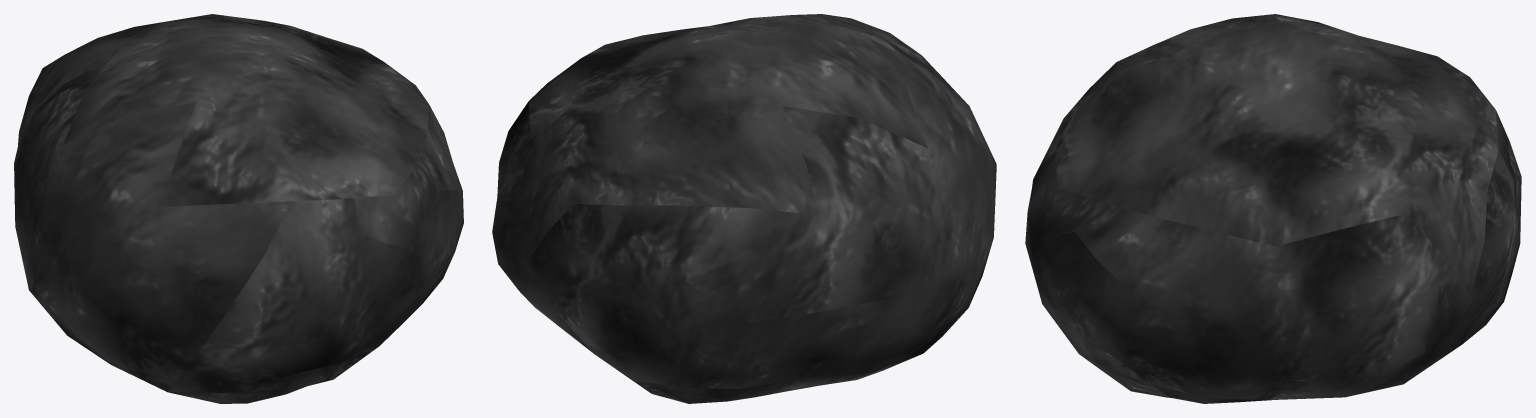
File: pebble.glb
3 renders of one model, left to right at view 1: azimuth 30°, elevation 25°; view 2: azimuth 150°, elevation 25°; view 3: azimuth 270°, elevation 25°, orthographic. The views are drawn at different scales.
Parts seen in each view (by area): view 1: Icosphere; view 2: Icosphere; view 3: Icosphere.
Part boxes in pixels (x1,y1,x2,y2): Icosphere: (14,14,463,403); Icosphere: (492,14,996,403); Icosphere: (1025,14,1521,403).
Bounding box in the file's own units: 1.07 × 0.8004 × 1.09.
1 material, 1 textured.
